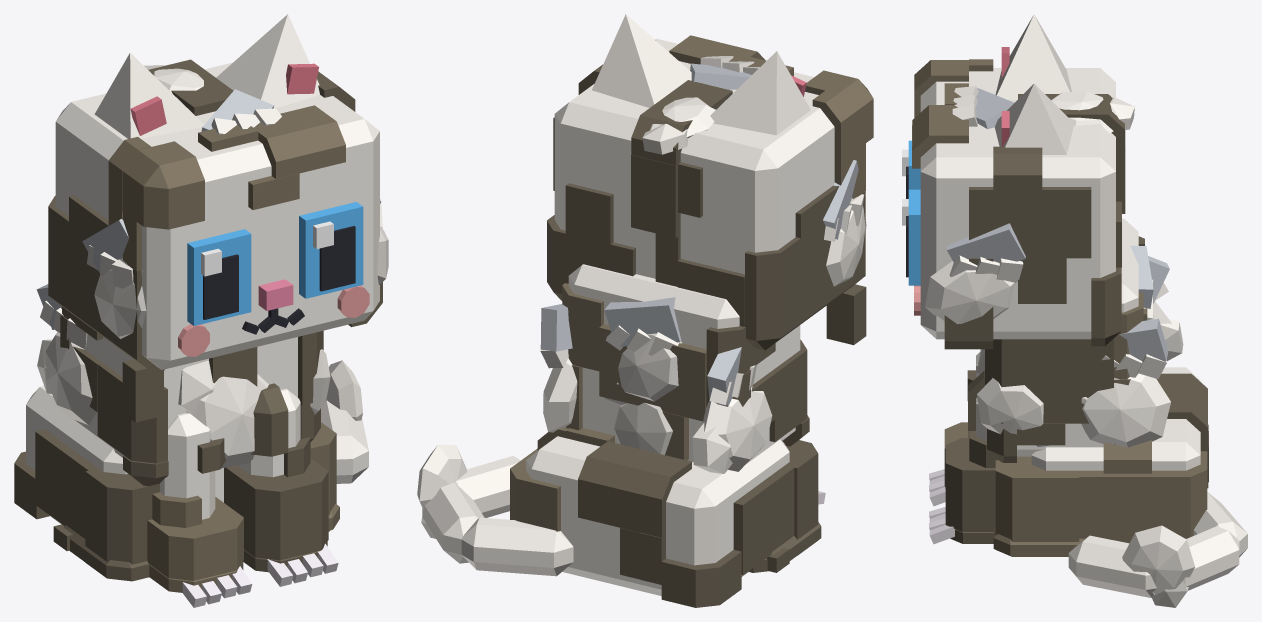
The model's file is CleanACat_Cat_Cotton_Dirty_Sit.fbx.
The picture shows the model from 3 angles, left to right: view 1: azimuth 30°, elevation 25°; view 2: azimuth 150°, elevation 25°; view 3: azimuth 270°, elevation 25°; orthographic projection. The views are drawn at different scales.
Parts seen in each view (by area): view 1: CleanACat_Cat_Cotton_Dirty_Sit_Head, CleanACat_Cat_Cotton_Dirty_Sit_Mud17, CleanACat_Cat_Cotton_Dirty_Sit_Mud01, CleanACat_Cat_Cotton_Dirty_Sit_Mud06, CleanACat_Cat_Cotton_Dirty_Sit_Mud18, CleanACat_Cat_Cotton_Dirty_Sit_Body, CleanACat_Cat_Cotton_Dirty_Sit_Mud16, CleanACat_Cat_Cotton_Dirty_Sit_Mud03, CleanACat_Cat_Cotton_Dirty_Sit_Mud14, CleanACat_Cat_Cotton_Dirty_Sit_Mud10, CleanACat_Cat_Cotton_Dirty_Sit_Eye1, CleanACat_Cat_Cotton_Dirty_Sit_Eye2 (+23 smaller); view 2: CleanACat_Cat_Cotton_Dirty_Sit_Head, CleanACat_Cat_Cotton_Dirty_Sit_Body, CleanACat_Cat_Cotton_Dirty_Sit_Mud01, CleanACat_Cat_Cotton_Dirty_Sit_Tail, CleanACat_Cat_Cotton_Dirty_Sit_Mud13, CleanACat_Cat_Cotton_Dirty_Sit_Mud04, CleanACat_Cat_Cotton_Dirty_Sit_Mud14, CleanACat_Cat_Cotton_Dirty_Sit_Mud09, CleanACat_Cat_Cotton_Dirty_Sit_Mud05, CleanACat_Cat_Cotton_Dirty_Sit_EarL, CleanACat_Cat_Cotton_Dirty_Sit_Mud06, CleanACat_Cat_Cotton_Dirty_Sit_EarR (+17 smaller); view 3: CleanACat_Cat_Cotton_Dirty_Sit_Head, CleanACat_Cat_Cotton_Dirty_Sit_Mud02, CleanACat_Cat_Cotton_Dirty_Sit_Mud12, CleanACat_Cat_Cotton_Dirty_Sit_Mud08, CleanACat_Cat_Cotton_Dirty_Sit_Mud15, CleanACat_Cat_Cotton_Dirty_Sit_Tail, CleanACat_Cat_Cotton_Dirty_Sit_Body, CleanACat_Cat_Cotton_Dirty_Sit_Mud17, CleanACat_Cat_Cotton_Dirty_Sit_Fluff05, CleanACat_Cat_Cotton_Dirty_Sit_Fluff01, CleanACat_Cat_Cotton_Dirty_Sit_Fluff09, CleanACat_Cat_Cotton_Dirty_Sit_EarR (+19 smaller).
Boxes of the visible parts, left/top/right/bottom form: CleanACat_Cat_Cotton_Dirty_Sit_Head: left=55, top=62, right=379, bottom=369; CleanACat_Cat_Cotton_Dirty_Sit_Mud17: left=224, top=437, right=328, bottom=572; CleanACat_Cat_Cotton_Dirty_Sit_Mud01: left=48, top=195, right=164, bottom=422; CleanACat_Cat_Cotton_Dirty_Sit_Mud06: left=108, top=136, right=204, bottom=271; CleanACat_Cat_Cotton_Dirty_Sit_Mud18: left=147, top=492, right=243, bottom=592; CleanACat_Cat_Cotton_Dirty_Sit_Body: left=26, top=334, right=297, bottom=524; CleanACat_Cat_Cotton_Dirty_Sit_Mud16: left=64, top=468, right=159, bottom=581; CleanACat_Cat_Cotton_Dirty_Sit_Mud03: left=198, top=105, right=345, bottom=209; CleanACat_Cat_Cotton_Dirty_Sit_Mud14: left=14, top=429, right=97, bottom=550; CleanACat_Cat_Cotton_Dirty_Sit_Mud10: left=73, top=346, right=168, bottom=486; CleanACat_Cat_Cotton_Dirty_Sit_Eye1: left=299, top=202, right=363, bottom=298; CleanACat_Cat_Cotton_Dirty_Sit_Eye2: left=187, top=229, right=251, bottom=325; CleanACat_Cat_Cotton_Dirty_Sit_Head: left=554, top=38, right=834, bottom=278; CleanACat_Cat_Cotton_Dirty_Sit_Body: left=526, top=264, right=800, bottom=595; CleanACat_Cat_Cotton_Dirty_Sit_Mud01: left=677, top=185, right=866, bottom=350; CleanACat_Cat_Cotton_Dirty_Sit_Tail: left=422, top=456, right=573, bottom=576; CleanACat_Cat_Cotton_Dirty_Sit_Mud13: left=578, top=441, right=691, bottom=584; CleanACat_Cat_Cotton_Dirty_Sit_Mud04: left=631, top=80, right=732, bottom=286; CleanACat_Cat_Cotton_Dirty_Sit_Mud14: left=661, top=465, right=794, bottom=607; CleanACat_Cat_Cotton_Dirty_Sit_Mud09: left=562, top=283, right=706, bottom=460; CleanACat_Cat_Cotton_Dirty_Sit_Mud05: left=547, top=183, right=635, bottom=301; CleanACat_Cat_Cotton_Dirty_Sit_EarL: left=592, top=14, right=691, bottom=107; CleanACat_Cat_Cotton_Dirty_Sit_Mud06: left=805, top=70, right=873, bottom=198; CleanACat_Cat_Cotton_Dirty_Sit_EarR: left=710, top=51, right=810, bottom=135; CleanACat_Cat_Cotton_Dirty_Sit_Head: left=914, top=68, right=1115, bottom=339; CleanACat_Cat_Cotton_Dirty_Sit_Mud02: left=944, top=146, right=1091, bottom=349; CleanACat_Cat_Cotton_Dirty_Sit_Mud12: left=1079, top=440, right=1207, bottom=543; CleanACat_Cat_Cotton_Dirty_Sit_Mud08: left=985, top=338, right=1113, bottom=462; CleanACat_Cat_Cotton_Dirty_Sit_Mud15: left=993, top=456, right=1085, bottom=556; CleanACat_Cat_Cotton_Dirty_Sit_Tail: left=1068, top=492, right=1247, bottom=598; CleanACat_Cat_Cotton_Dirty_Sit_Body: left=1017, top=218, right=1200, bottom=470; CleanACat_Cat_Cotton_Dirty_Sit_Mud17: left=945, top=431, right=998, bottom=543; CleanACat_Cat_Cotton_Dirty_Sit_Fluff05: left=1081, top=373, right=1170, bottom=447; CleanACat_Cat_Cotton_Dirty_Sit_Fluff01: left=925, top=261, right=1016, bottom=324; CleanACat_Cat_Cotton_Dirty_Sit_Fluff09: left=1122, top=525, right=1194, bottom=607; CleanACat_Cat_Cotton_Dirty_Sit_EarR: left=995, top=14, right=1071, bottom=99.
Size of the model in its own units: 1.3 by 1.86 by 1.24.
Materials: 1 (1 with a texture image).
